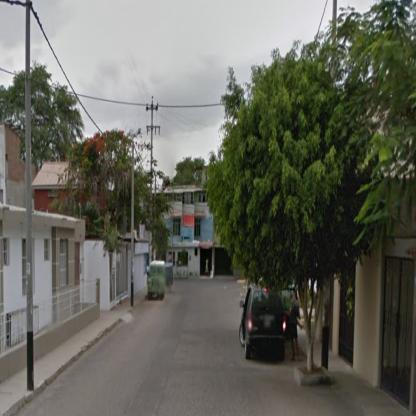Peaton: (291, 291, 303, 362), (206, 258, 210, 278)
Pista: (18, 363, 356, 414)
Vehiculo: (240, 289, 287, 361), (148, 261, 167, 301)
